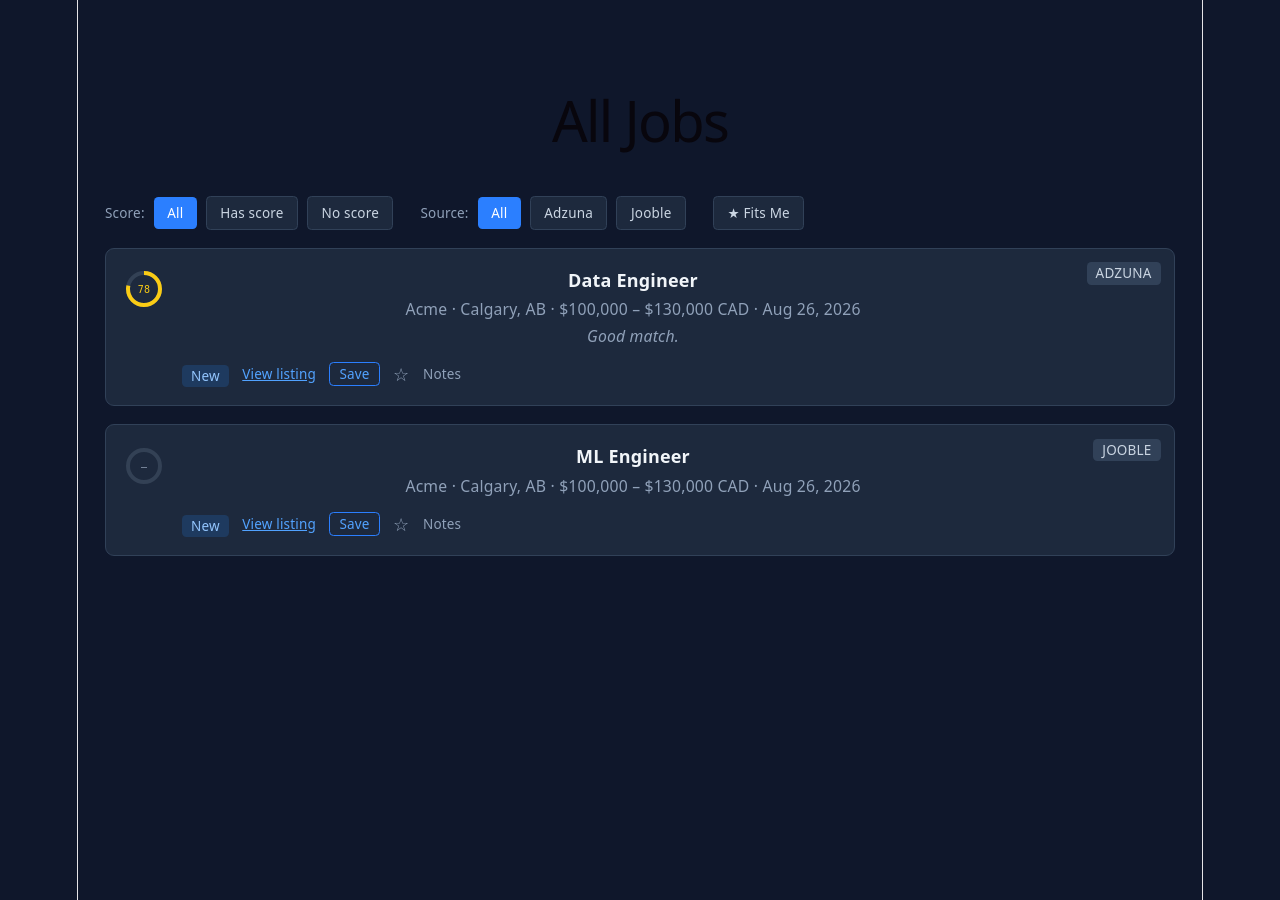
Test case: AllJobs › shows the no-matches empty state with a working Reset when Fits Me alone excludes everything
Check: the text "Data Engineer" is shown, box [568, 268, 698, 292]
Click the button with test id "fits-me-filter-button".
click(759, 213)  # box [713, 196, 804, 230]
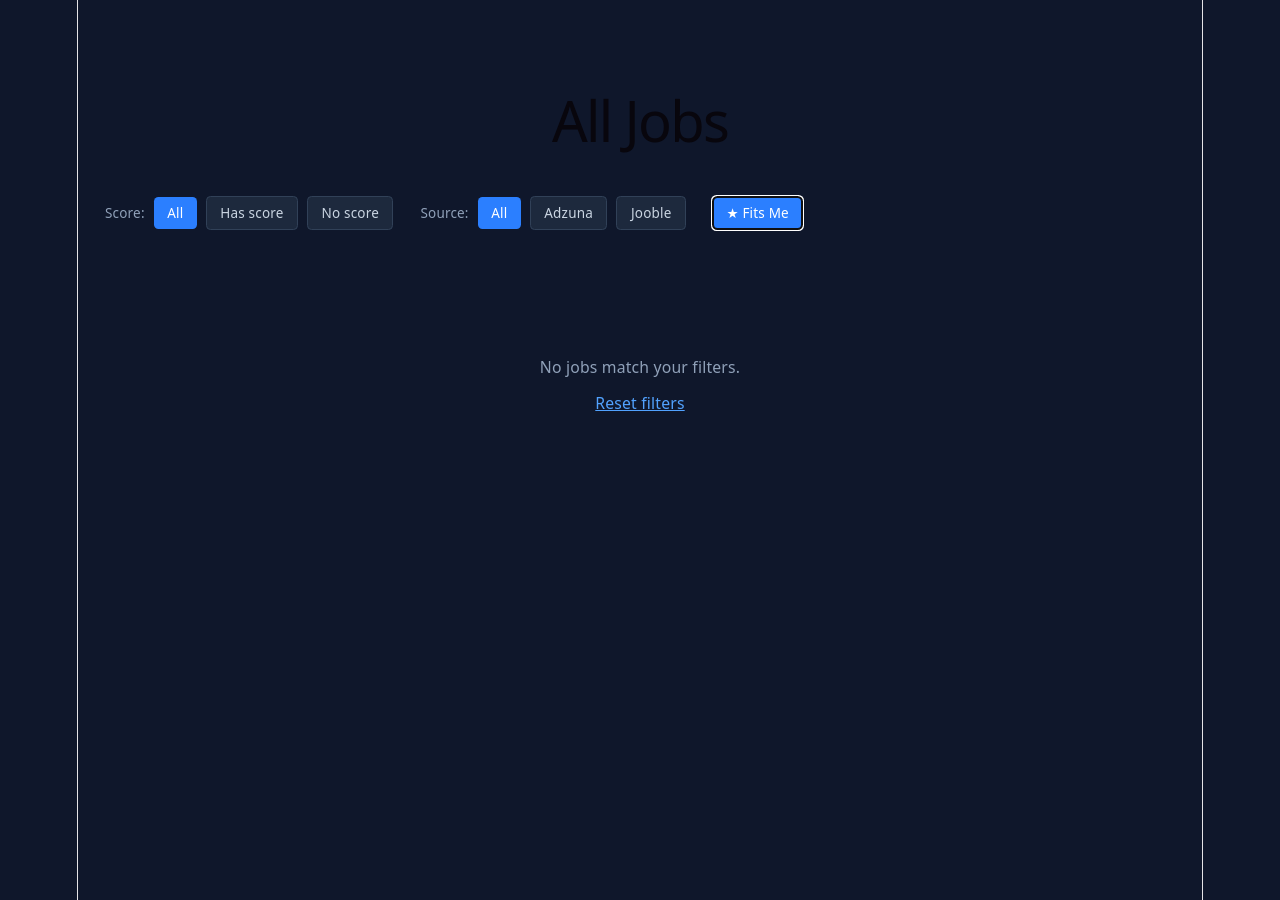
Check: the text "No jobs match your filters." is shown, box [540, 356, 740, 378]
Check: the button "Reset filters" is shown
Click the button "Reset filters".
click(640, 403)  # box [595, 392, 685, 414]
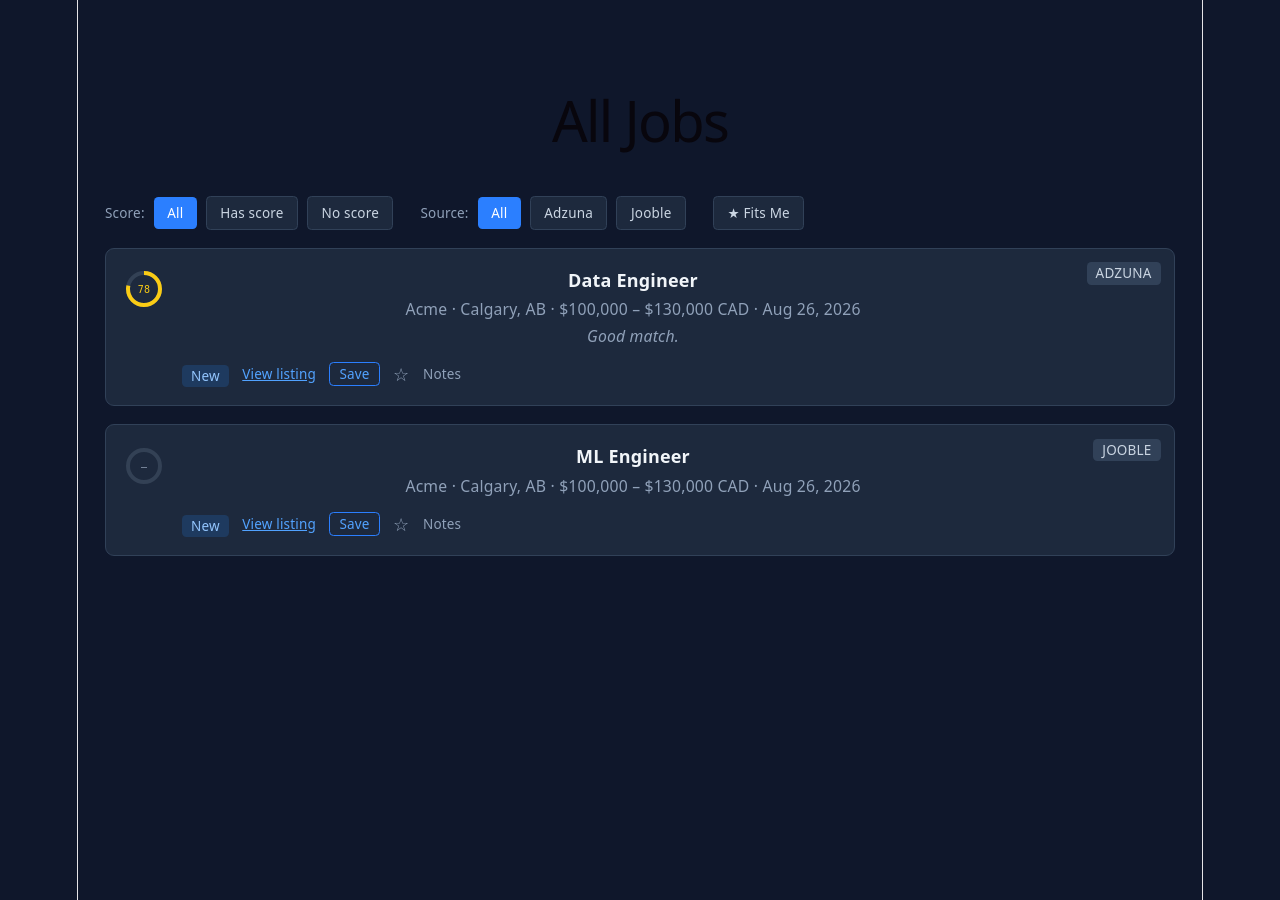
Check: the text "Data Engineer" is shown, box [568, 268, 698, 292]
Check: the text "ML Engineer" is shown, box [576, 444, 690, 468]
